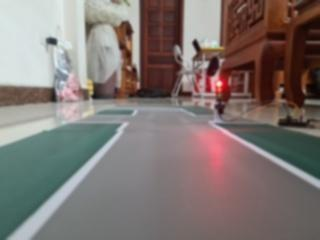red: (209, 76, 230, 115)
